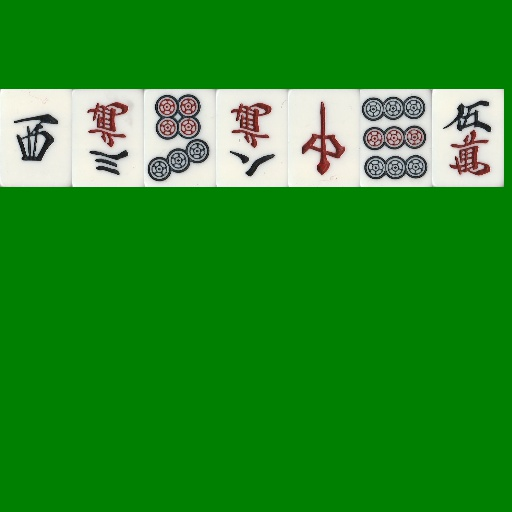3m: (72, 89, 144, 187)
5m: (432, 89, 504, 187)
7p: (144, 89, 216, 187)
8m: (216, 89, 288, 187)
9p: (360, 89, 432, 187)
tyun: (288, 89, 360, 187)
west: (0, 89, 72, 187)
